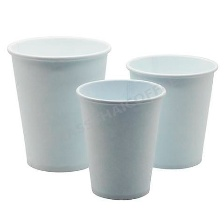paper_cup: (2, 31, 115, 177), (121, 48, 221, 174), (70, 75, 169, 202)
